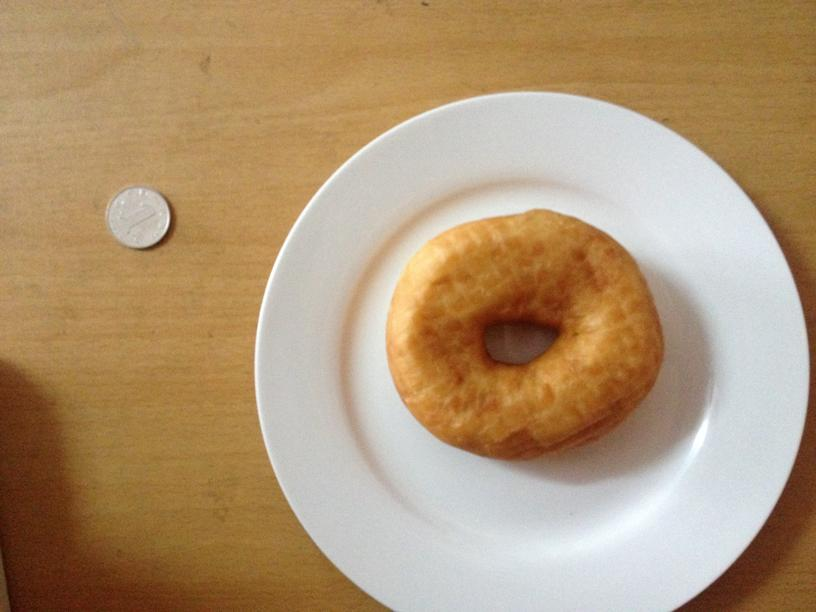coin: (103, 186, 170, 250)
doughnut: (386, 212, 663, 462)
